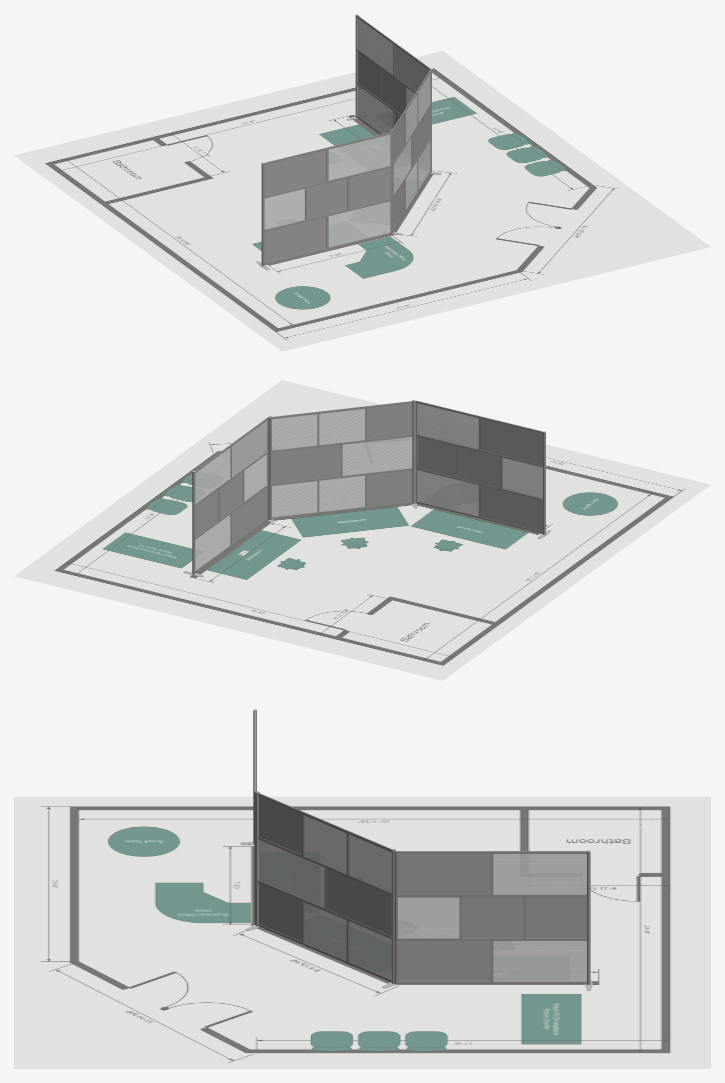
Rendered from Avanti+Design+01.fbx.
The picture shows the model from 3 angles, top to bottom: view 1: azimuth 30°, elevation 25°; view 2: azimuth 150°, elevation 25°; view 3: azimuth 270°, elevation 25°; orthographic projection. The views are drawn at different scales.
Parts seen in each view (by area): view 1: Model, Group38, Group37, Group41, Group42, Group34, Group33, Group29, Group71, Group67, Group72, Group59 (+3 smaller); view 2: Model, Group4, Group5, Group37, Group41, Group38, Group42, Group15, Group19, Group22, Group26, Group14 (+11 smaller); view 3: Model, Group67, Group71, Group68, Group72, Group4, Group5, Group64, Group59, Group63, Group15, Group22 (+8 smaller).
Boxes of the visible parts, x1,y1,x2,y2 form: Model: (14, 51, 710, 351); Group38: (328, 201, 390, 247); Group37: (264, 217, 326, 262); Group41: (264, 150, 326, 196); Group42: (328, 134, 390, 180); Group34: (349, 168, 390, 208); Group33: (307, 178, 347, 219); Group29: (264, 189, 304, 229); Group71: (357, 18, 393, 74); Group67: (357, 85, 393, 133); Group72: (394, 45, 428, 91); Group59: (357, 52, 380, 98); Model: (14, 380, 710, 680); Group4: (342, 437, 412, 475); Group5: (272, 445, 340, 483); Group37: (480, 485, 542, 531); Group41: (480, 419, 542, 465); Group38: (417, 470, 478, 516); Group42: (417, 403, 478, 449); Group15: (367, 403, 412, 439); Group19: (319, 409, 364, 445); Group22: (367, 470, 412, 506); Group26: (319, 475, 364, 511); Group14: (272, 414, 317, 450); Model: (14, 796, 710, 1068); Group67: (493, 941, 586, 981); Group71: (493, 854, 586, 894); Group68: (398, 941, 490, 981); Group72: (398, 854, 490, 894); Group4: (258, 840, 324, 907); Group5: (327, 868, 391, 936); Group64: (398, 897, 459, 938); Group59: (526, 897, 586, 938); Group63: (462, 897, 522, 938); Group15: (258, 796, 301, 854); Group22: (258, 883, 301, 941).
Bounding box in the file's own units: 328 × 75.06 × 355.
